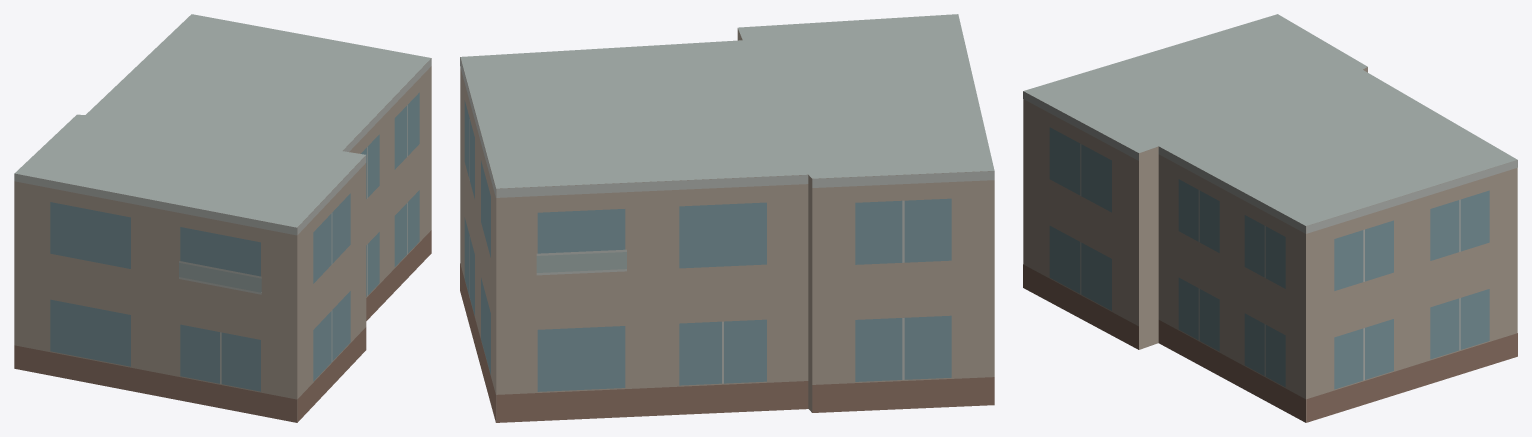
Rendered from survey-upis-32922328.glb.
3 views of the same model, side by side, from view 1: azimuth 30°, elevation 25°; view 2: azimuth 150°, elevation 25°; view 3: azimuth 270°, elevation 25° (orthographic). The views are drawn at different scales.
Visible parts, largest first — view 1: survey-upis-32922328.tmp; view 2: survey-upis-32922328.tmp; view 3: survey-upis-32922328.tmp.
Part boxes in pixels (bbox=[...]): survey-upis-32922328.tmp: bbox=[14, 14, 431, 422]; survey-upis-32922328.tmp: bbox=[460, 14, 994, 422]; survey-upis-32922328.tmp: bbox=[1023, 14, 1517, 422].
Size of the model in its own units: 14.11 by 6.1 by 13.91.
